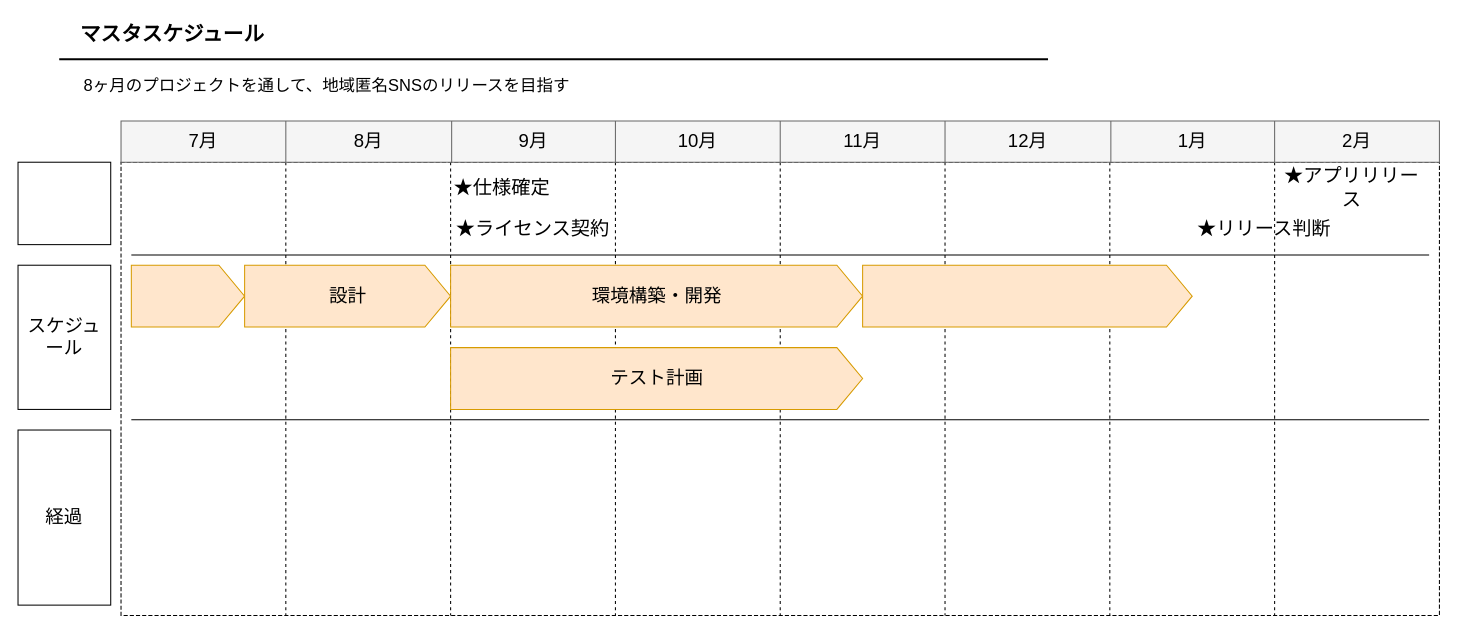
This 1457x633 diagram has some shape labels left out. The box of each missing label's shape, as (x1, y1, x2, y2) in pixels:
テスト: (862, 264, 1192, 327)
マイルストーン: (17, 161, 111, 245)
要件定義: (130, 264, 245, 327)
